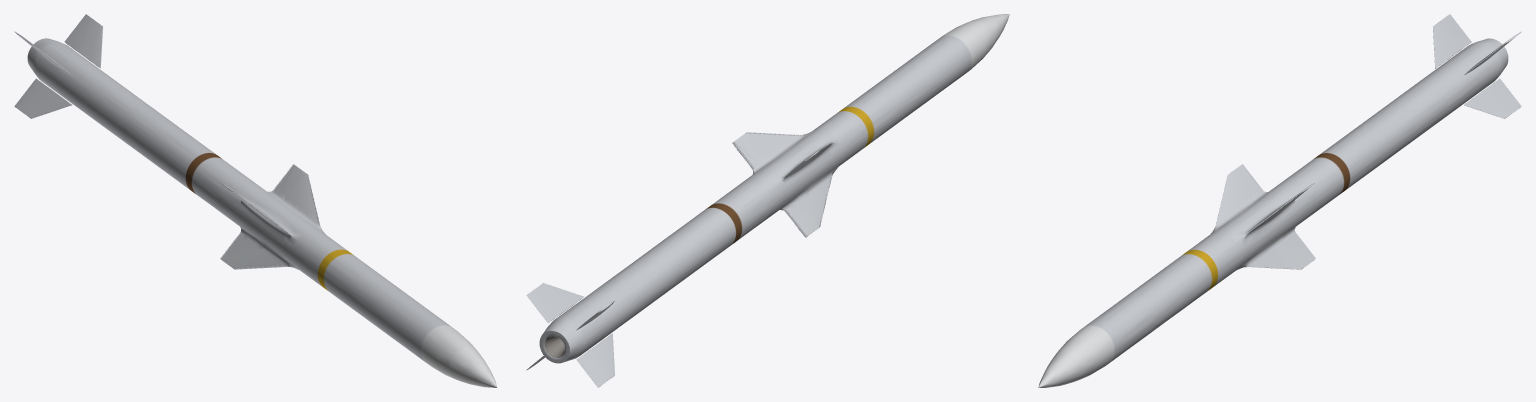
Rendered from aim120c.glb.
The picture shows the model from 3 angles, left to right: view 1: azimuth 30°, elevation 25°; view 2: azimuth 150°, elevation 25°; view 3: azimuth 330°, elevation 25°; orthographic projection.
Parts seen in each view (by area): view 1: airframe, fsim:elevator+aileron:-1+rudder:1@-20,20, fsim:elevator+aileron:1+rudder:1@-20,20; view 2: airframe, fsim:elevator+aileron:1+rudder:1@-20,20, fsim:elevator+aileron:-1+rudder:1@-20,20; view 3: airframe, fsim:elevator+aileron:-1+rudder:-1@-20,20, fsim:elevator+aileron:1+rudder:-1@-20,20.
Part boxes in pixels (x1,y1,x2,y2): airframe: [27, 38, 497, 387]; fsim:elevator+aileron:-1+rudder:1@-20,20: [14, 78, 71, 118]; fsim:elevator+aileron:1+rudder:1@-20,20: [64, 14, 102, 68]; airframe: [539, 14, 1009, 363]; fsim:elevator+aileron:1+rudder:1@-20,20: [526, 283, 583, 322]; fsim:elevator+aileron:-1+rudder:1@-20,20: [576, 333, 614, 387]; airframe: [1038, 38, 1508, 387]; fsim:elevator+aileron:-1+rudder:-1@-20,20: [1433, 14, 1471, 68]; fsim:elevator+aileron:1+rudder:-1@-20,20: [1464, 79, 1521, 118].
Size of the model in its own units: 0.3452 by 0.344 by 3.66.
Materials: 3 (1 with a texture image).
